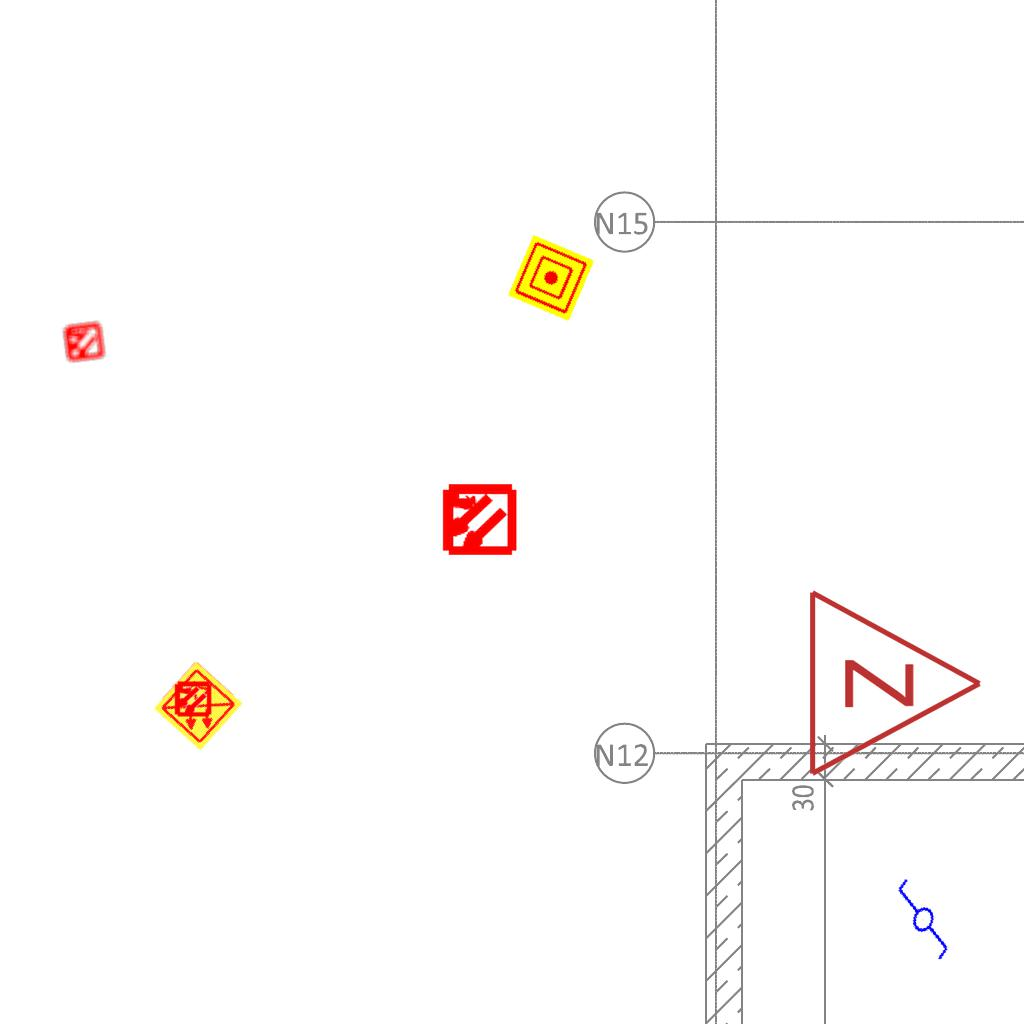NAM-Nichtautomatischer_Melder: (507, 234, 595, 322)
OKW_Multisensormelder_(Kombination_optischer_Rauch-Kahlenmonoxid_Waerme-Melder): (151, 659, 245, 753)
OT_Multisensormelder_(Kombination_RMO_WMD): (421, 463, 534, 576), (51, 310, 115, 374), (164, 671, 220, 727)
Wechselschalter: (874, 874, 968, 972)
Zimmersignalleuchte: (795, 583, 995, 779)
